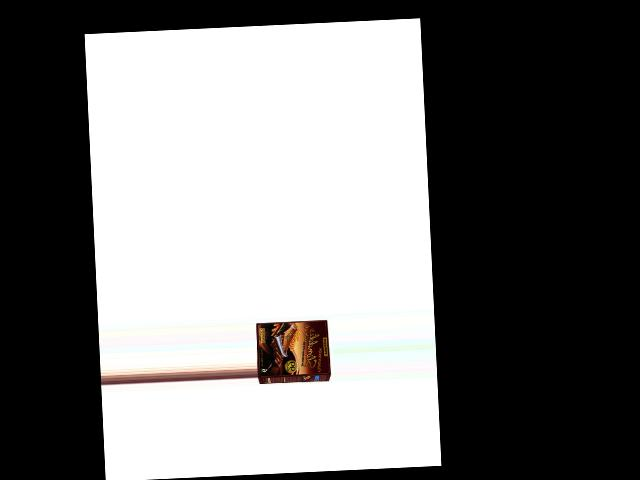chocolate: (254, 313, 332, 388)
